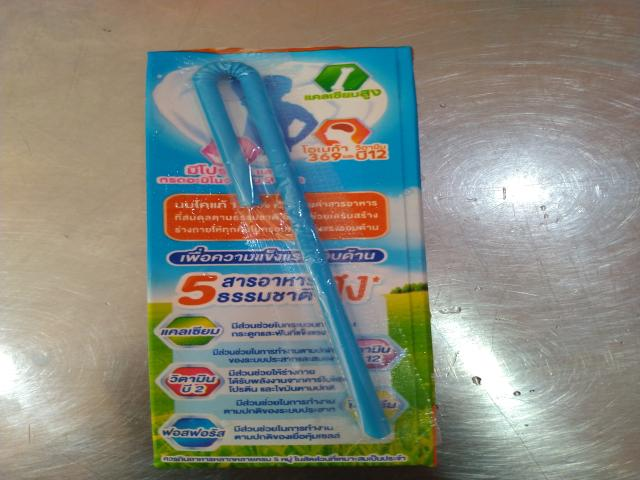drink_box: (147, 47, 437, 468)
